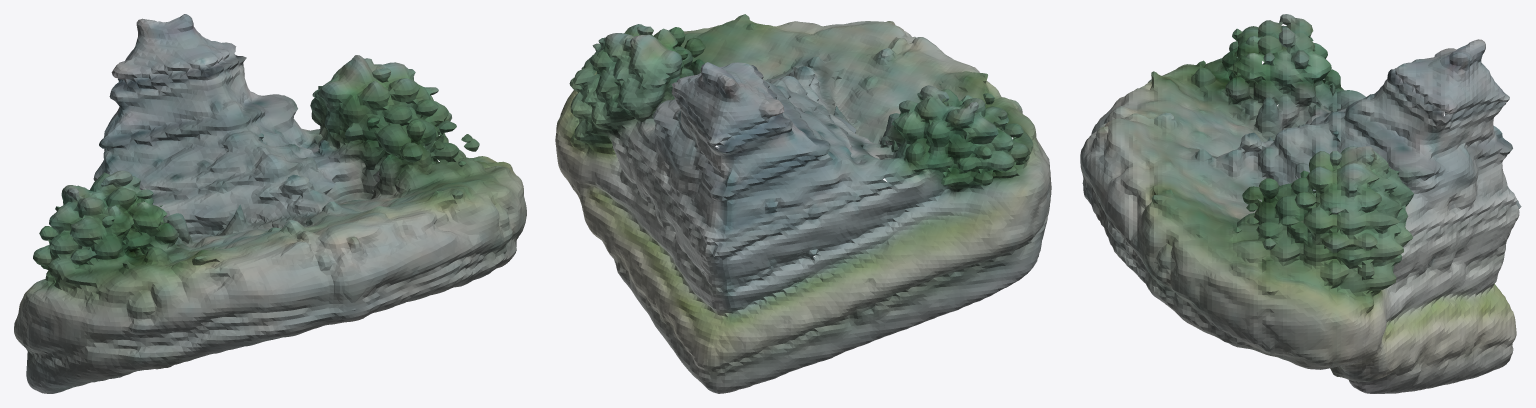
Rendered from castillo.glb.
3 views of the same model, side by side, from view 1: azimuth 30°, elevation 25°; view 2: azimuth 150°, elevation 25°; view 3: azimuth 270°, elevation 25° (orthographic). The views are drawn at different scales.
Parts seen in each view (by area): view 1: geometry_0; view 2: geometry_0; view 3: geometry_0.
Boxes of the visible parts, x1,y1,x2,y2 form: geometry_0: (14, 14, 526, 393); geometry_0: (555, 14, 1051, 393); geometry_0: (1080, 14, 1521, 393).
Bounding box in the file's own units: 0.9146 × 0.5973 × 0.7238.
